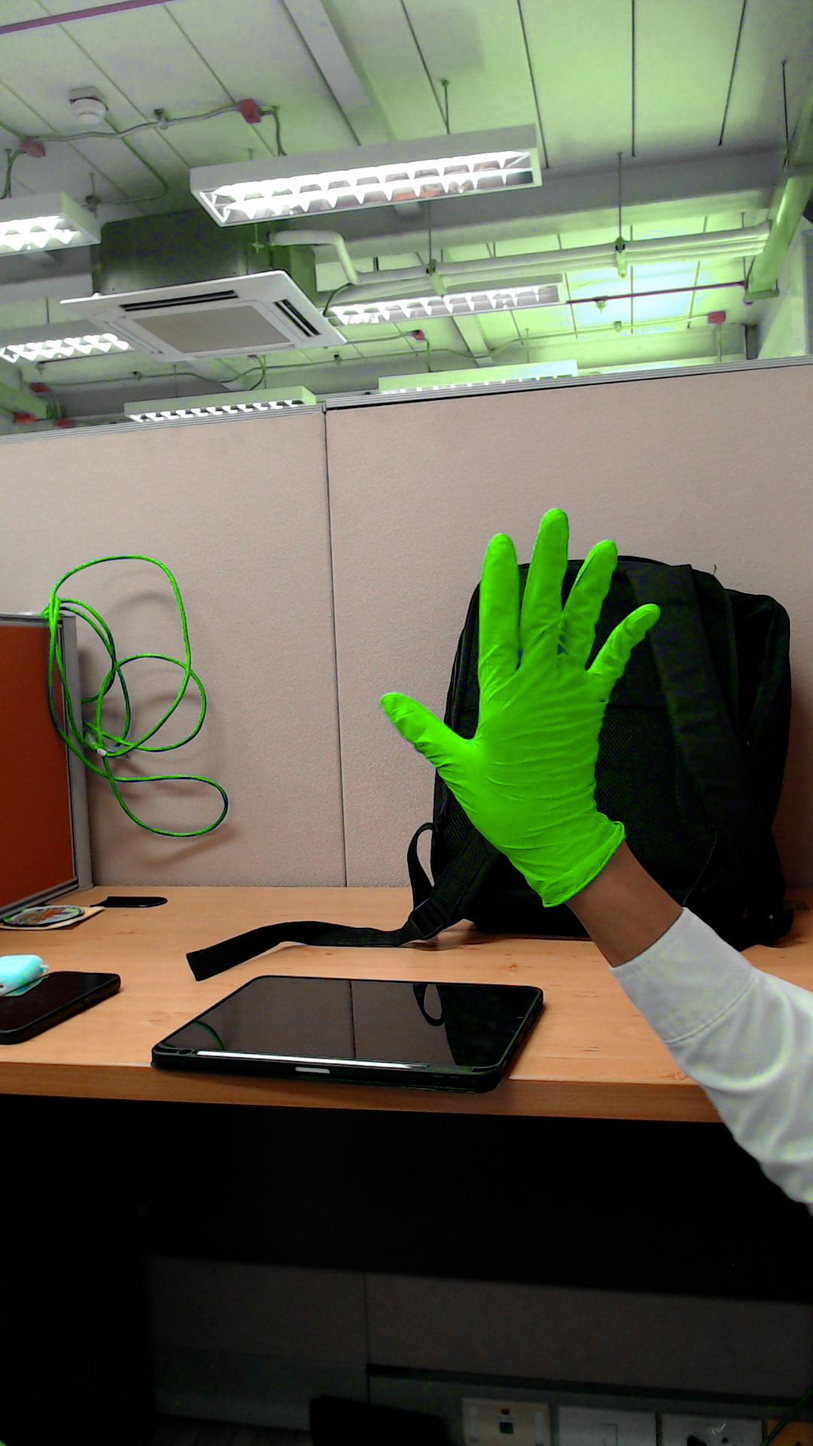gloves: (370, 497, 667, 798)
